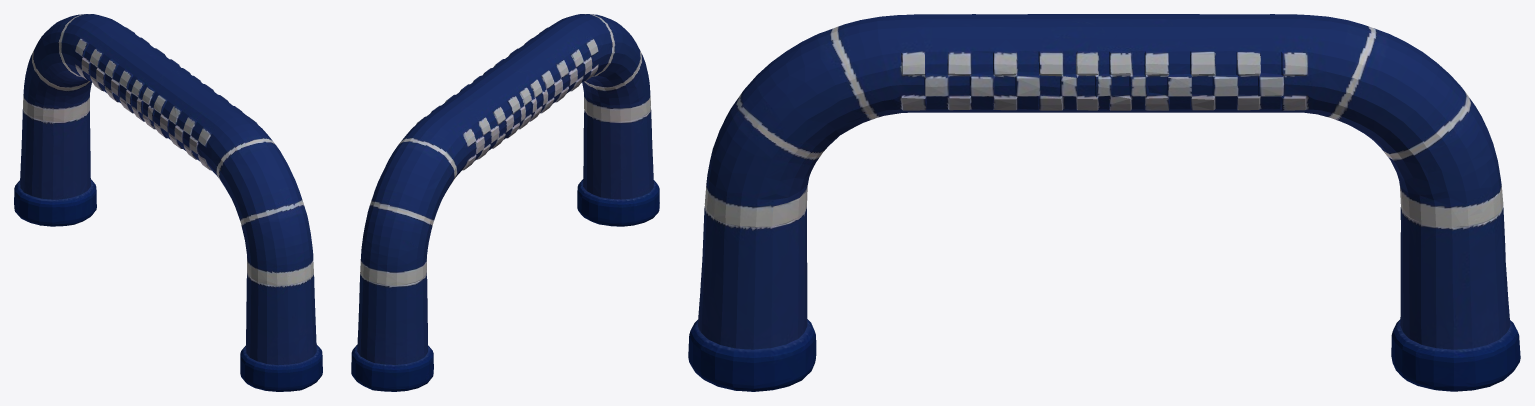
File: beginDoor.glb
The picture shows the model from 3 angles, left to right: view 1: azimuth 30°, elevation 25°; view 2: azimuth 150°, elevation 25°; view 3: azimuth 270°, elevation 25°; orthographic projection. The views are drawn at different scales.
Parts seen in each view (by area): view 1: tripo_node_988e22fd-79bc-43b1-877c-b9f20de858a4; view 2: tripo_node_988e22fd-79bc-43b1-877c-b9f20de858a4; view 3: tripo_node_988e22fd-79bc-43b1-877c-b9f20de858a4.
Part boxes in pixels (box(x1,y1,x2,y2)): tripo_node_988e22fd-79bc-43b1-877c-b9f20de858a4: box(14, 14, 322, 391); tripo_node_988e22fd-79bc-43b1-877c-b9f20de858a4: box(351, 14, 659, 391); tripo_node_988e22fd-79bc-43b1-877c-b9f20de858a4: box(688, 14, 1520, 391).
Size of the model in its own units: 0.1578 by 0.4627 by 1.
1 material, 1 textured.
